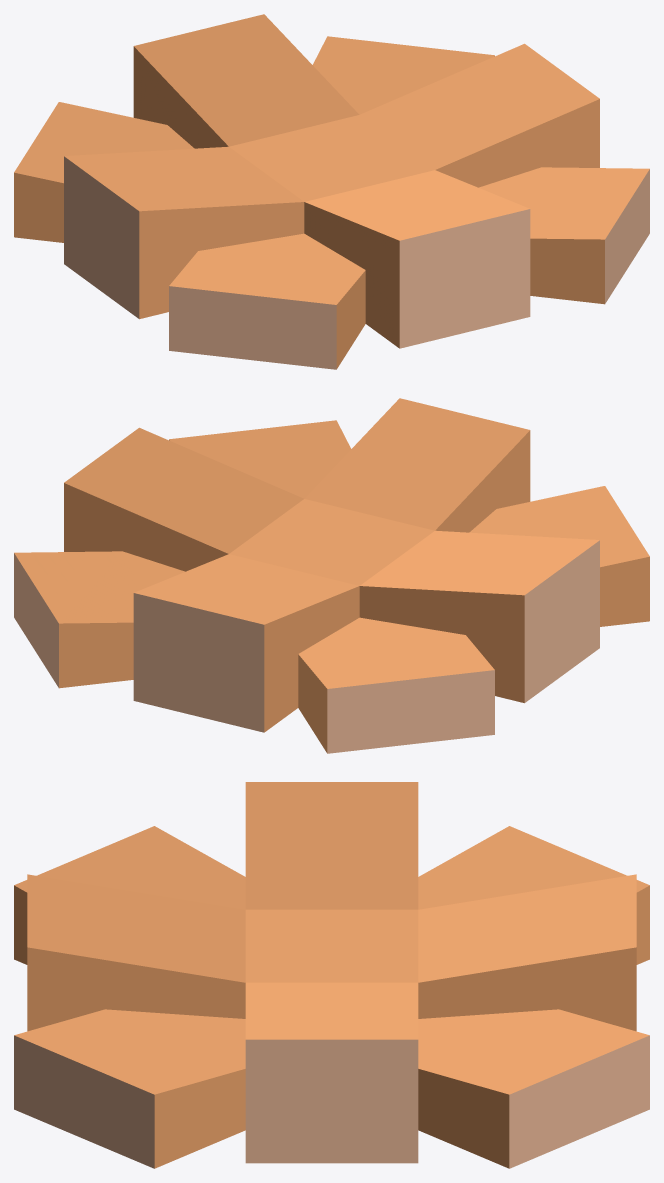
Rendered from campfire_small.obj.
3 views of the same model, one above another, from view 1: azimuth 30°, elevation 25°; view 2: azimuth 150°, elevation 25°; view 3: azimuth 270°, elevation 25° (orthographic). The views are drawn at different scales.
Parts seen in each view (by area): view 1: campfire_small; view 2: campfire_small; view 3: campfire_small.
Boxes of the visible parts, box(x1,y1,x2,y2) form: campfire_small: box(14, 14, 649, 369); campfire_small: box(14, 398, 649, 753); campfire_small: box(14, 782, 649, 1168).
Size of the model in its own units: 2.92 by 0.626 by 2.92.
